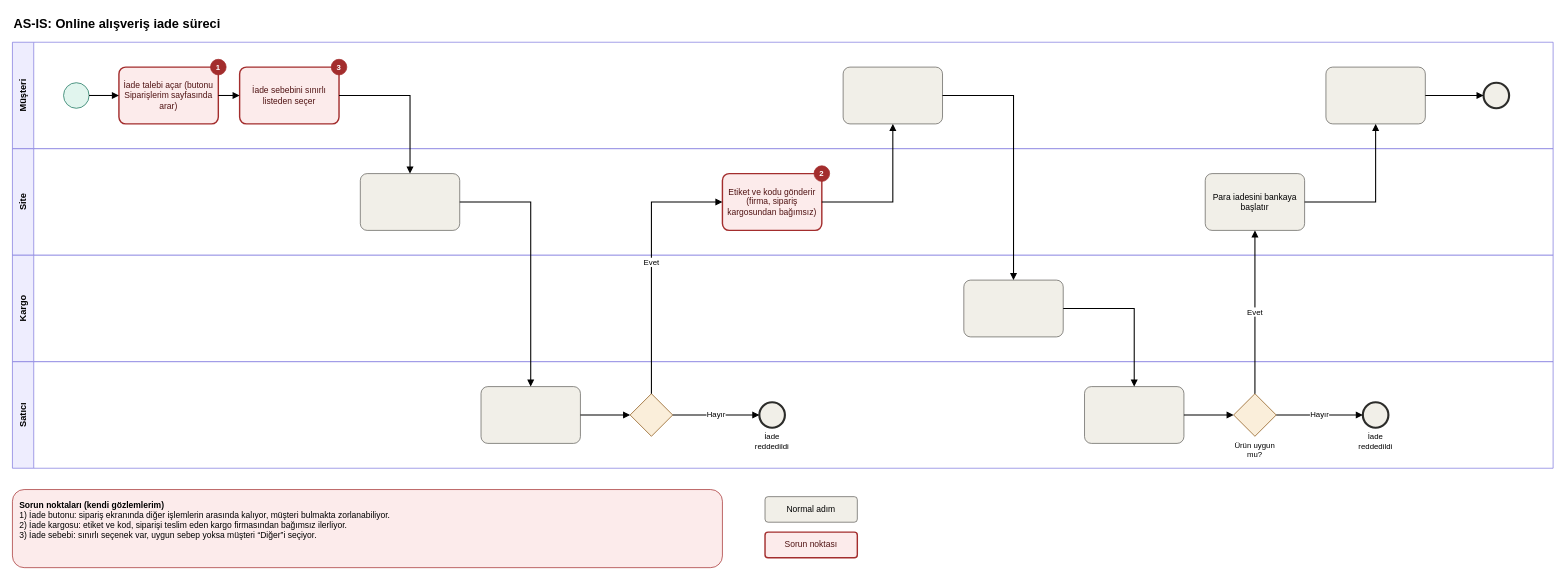
The diagram is 1566 pixels wide and 580 high, and some of its shapes have lost their labels. The centre of each missing label's shape, as x and y in pixels:
İade kararı verir: the point at 76,95
İade tamamlandı: the point at 1496,95
Onaylandı mı?: the point at 651,414
Paranın hesaba yansımasını bekler: the point at 1375,95
Talebi inceler: the point at 530,414
Talebi kaydeder ve satıcıya iletir: the point at 410,201
Ürünü paketler, etiketi yapıştırır, kargo şubesine götürür: the point at 892,95
Ürünü teslim alır ve kontrol eder: the point at 1134,414
Ürünü teslim alır, satıcıya taşır: the point at 1013,308
